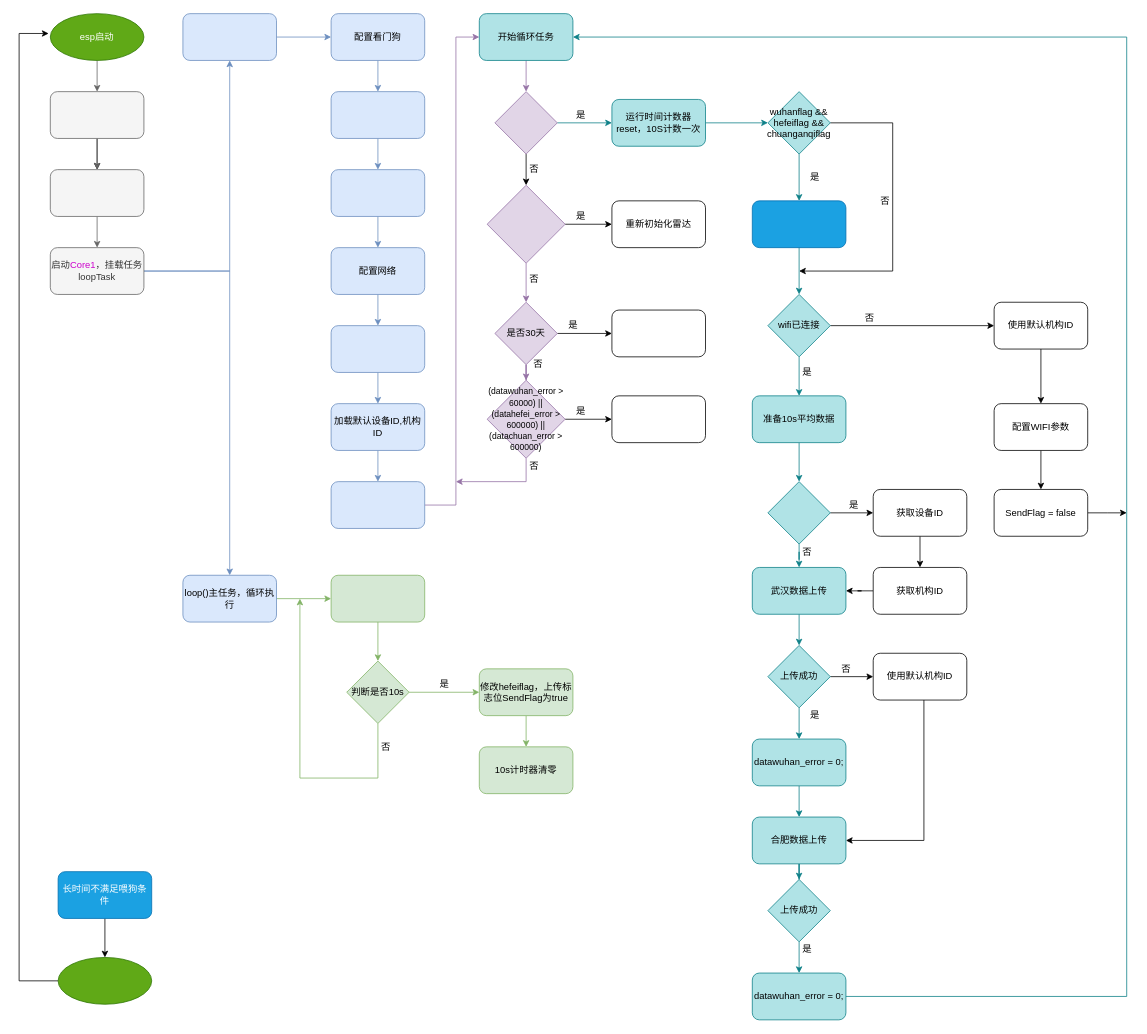
Image size: 1147x1034. Some labels were removed from this diagram. The shapes that lost their labels are listed below. From the top down, each one's centre as x and y in pixels, then its label:
(229,36): setup()
(97,114): app_main()
(377,114): 配置串口
(525,122): SendFlag 是否为true
(97,192): initArduino()
(377,192): 配置计时器
(525,223): datachuan_error > 5
(799,224): 喂狗
(377,348): 配置雷达
(658,333): 重启设备
(658,419): 计数器清零，防止溢出
(377,504): 启动 Core0 ,挂载发送数据任务
(798,512): 机构id为初始值或为空
(377,598): 串口数据解析
(104,980): esp停止运行
